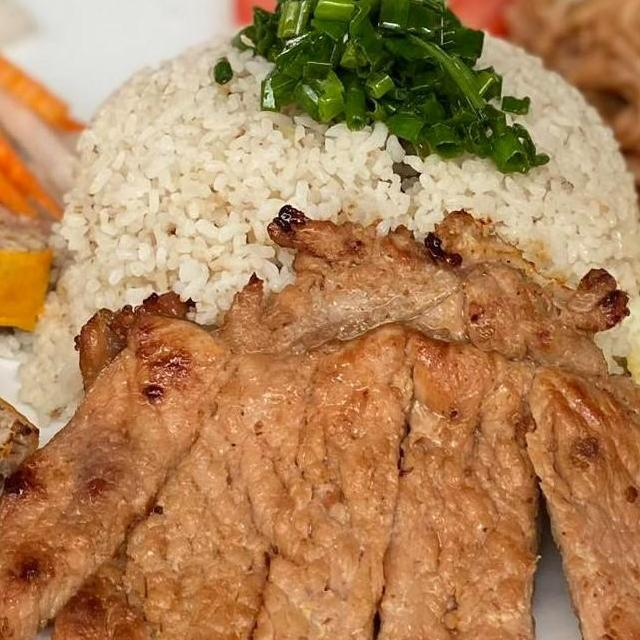bi: (494, 0, 640, 263)
com: (0, 0, 640, 426)
com suon bi trung: (0, 0, 640, 640)
suon: (0, 195, 640, 640)
